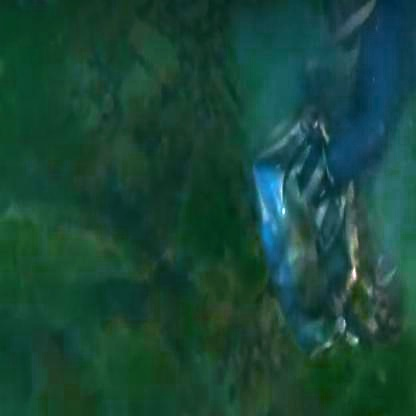can: (260, 130, 380, 359)
